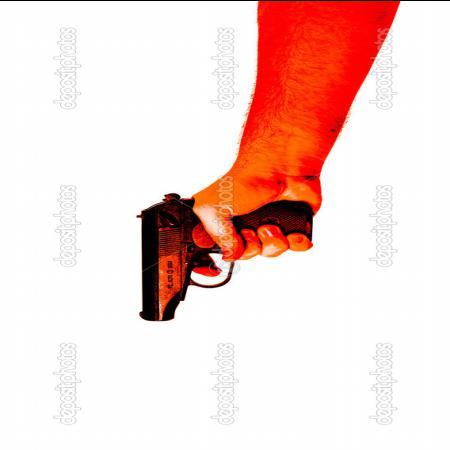Pistol: (127, 190, 317, 314)
